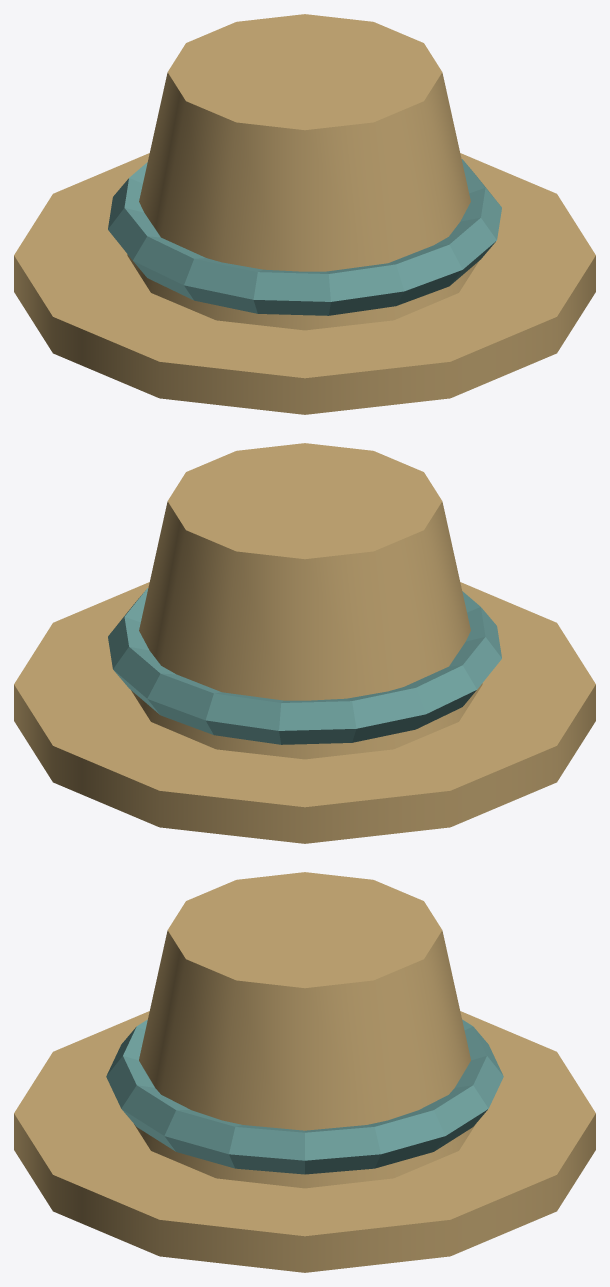
Rendered from blob_look_03.glb.
The picture shows the model from 3 angles, top to bottom: view 1: azimuth 30°, elevation 25°; view 2: azimuth 150°, elevation 25°; view 3: azimuth 270°, elevation 25°; orthographic projection.
Parts seen in each view (by area): view 1: blob_look_03; view 2: blob_look_03; view 3: blob_look_03.
Part boxes in pixels (x1,y1,x2,y2): blob_look_03: [14, 14, 595, 414]; blob_look_03: [14, 443, 595, 843]; blob_look_03: [14, 872, 595, 1272].
Bounding box in the file's own units: 0.36 × 0.15 × 0.36.
